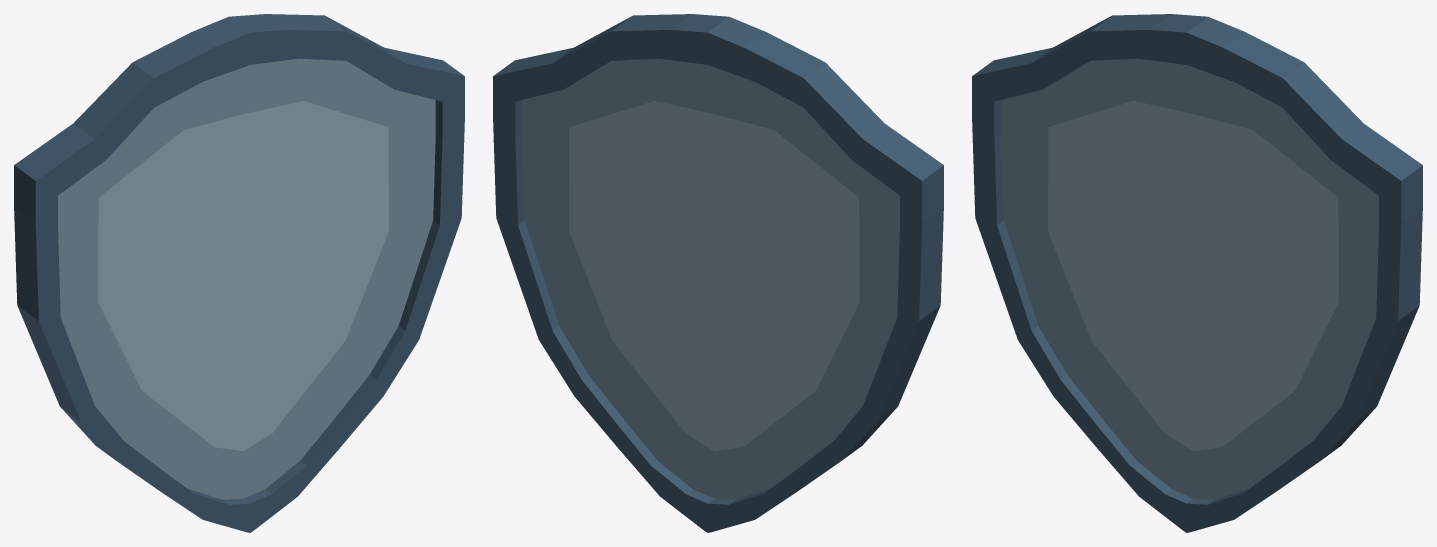
Rendered from Shield.fbx.
3 views of the same model, side by side, from view 1: azimuth 30°, elevation 25°; view 2: azimuth 150°, elevation 25°; view 3: azimuth 330°, elevation 25° (orthographic).
Visible parts, largest first — view 1: Cube; view 2: Cube; view 3: Cube.
Boxes of the visible parts, left/top/right/bottom form: Cube: left=14, top=14, right=464, bottom=532; Cube: left=493, top=14, right=943, bottom=532; Cube: left=972, top=14, right=1422, bottom=532.
Bounding box in the file's own units: 223 × 249 × 19.53.
